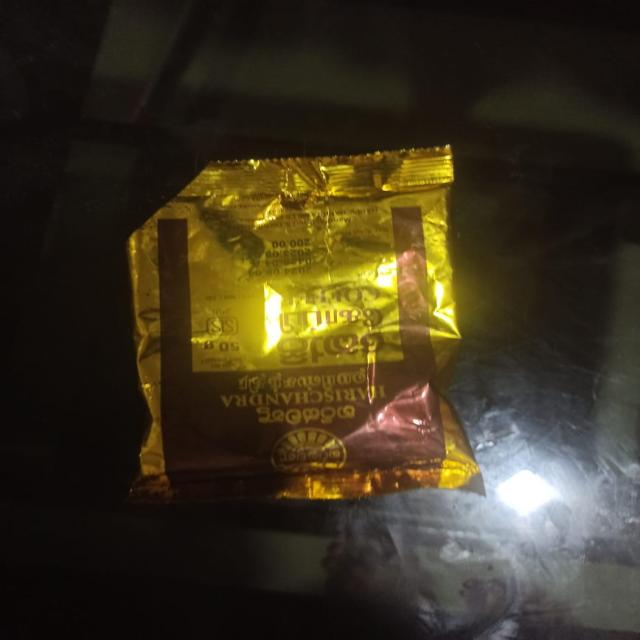Harischandra Coffee: (123, 165, 485, 490)
